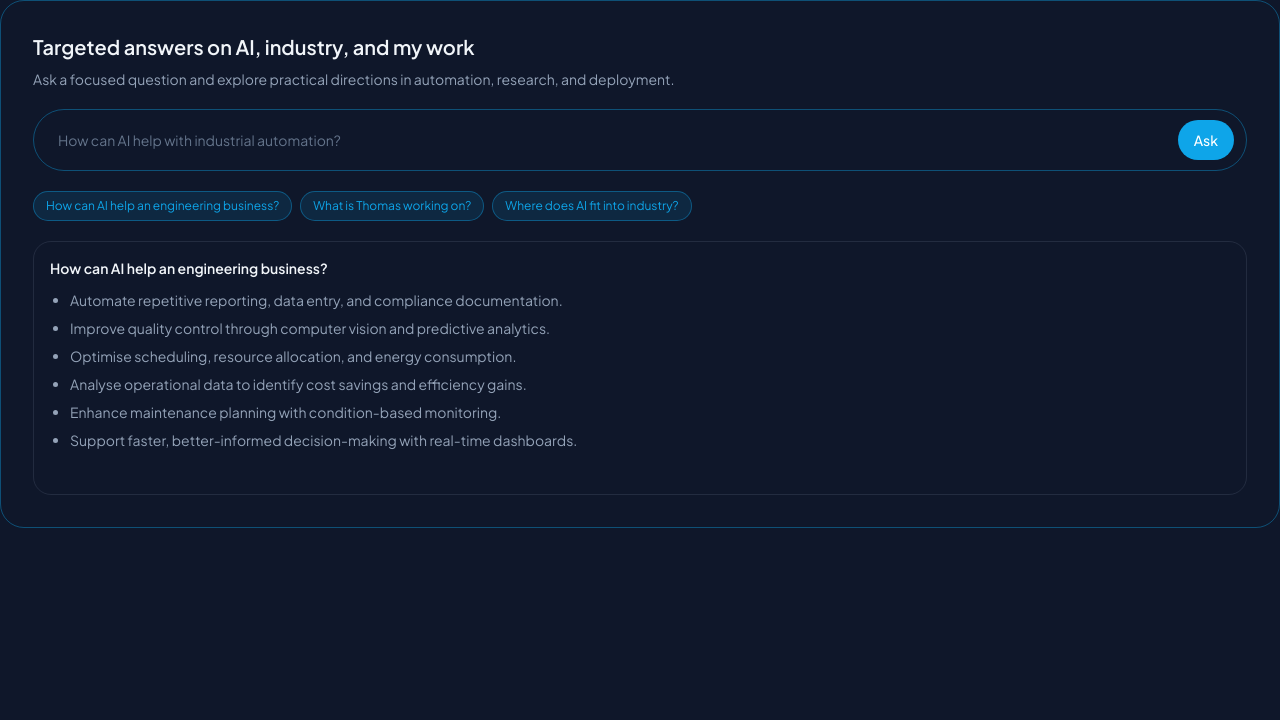
Test: LLMInterface homepage variant › desktop contract › renders non-stream answers with sources and suggested actions when present
Type "Where does AI fit into industry?" into the field. click: point(608, 140)
box: x1=46 y1=118 x2=1170 y2=162
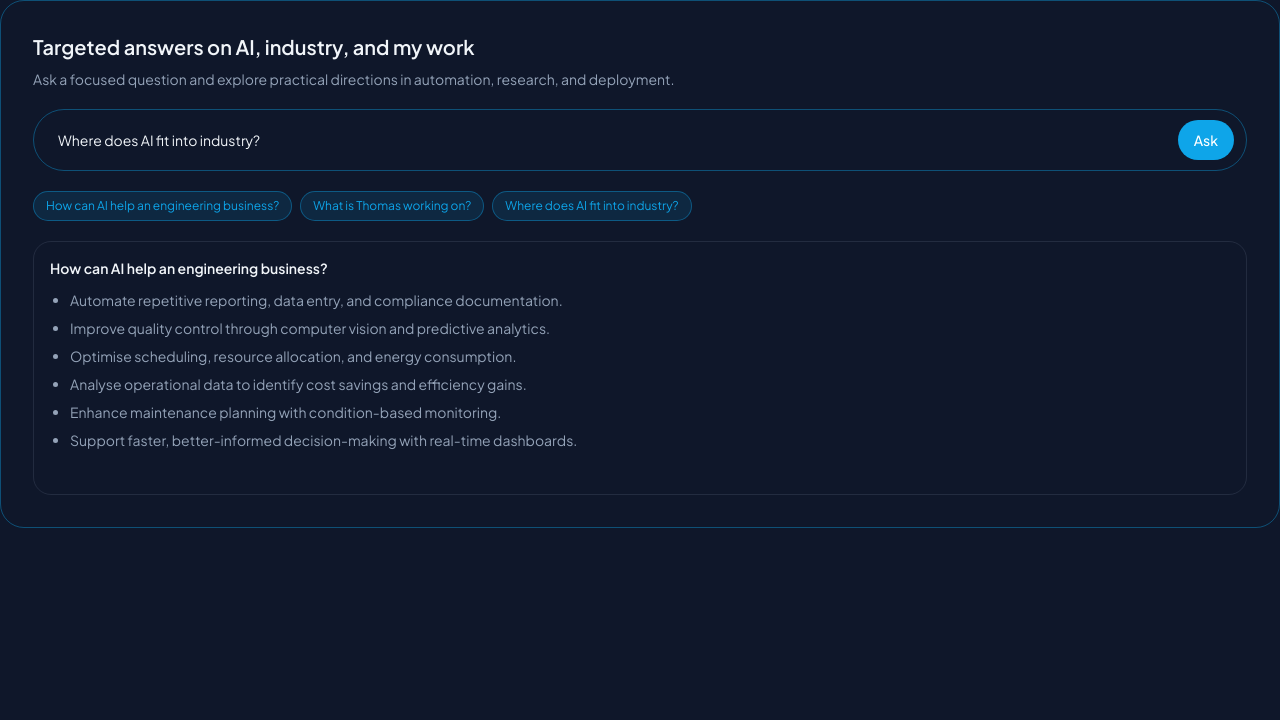
Click the button "Ask". click: point(1206, 140)
box: x1=1178 y1=120 x2=1234 y2=160
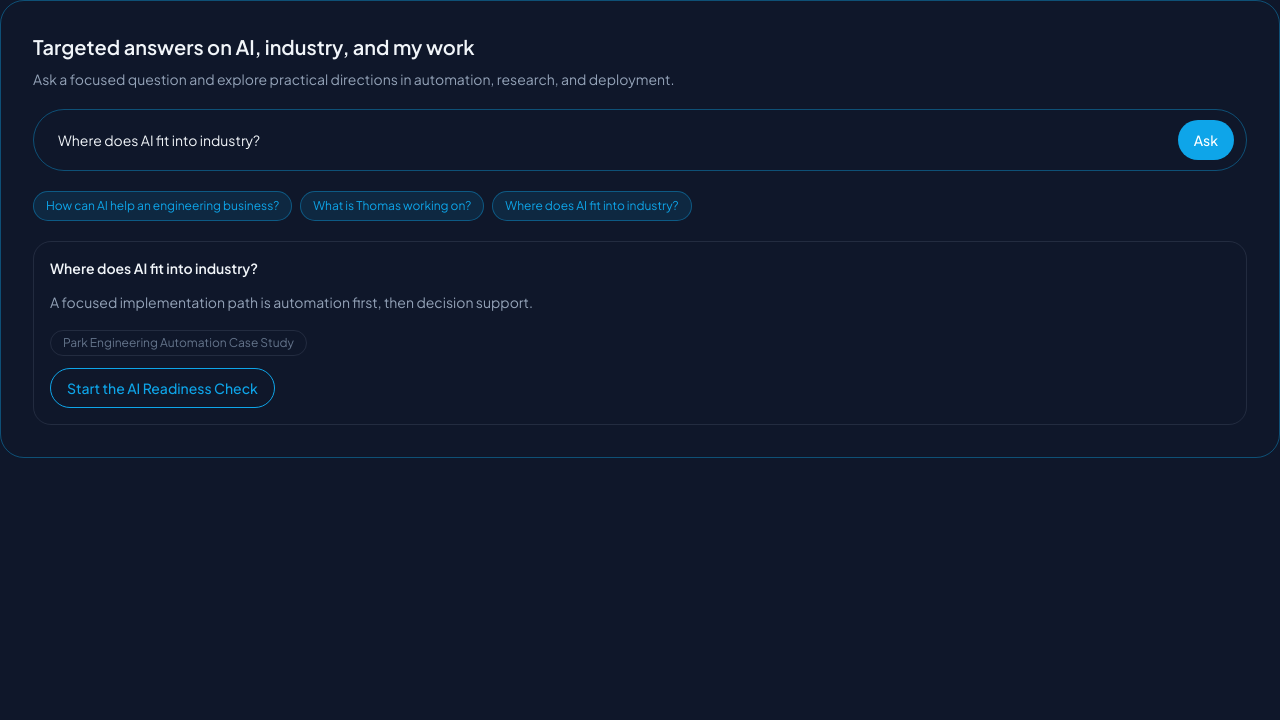
Now the text "A focused implementation path is automation first, then decision support." is shown, box x1=50 y1=293 x2=533 y2=311
Now the link "Park Engineering Automation Case Study" is shown, box x1=50 y1=330 x2=307 y2=356
